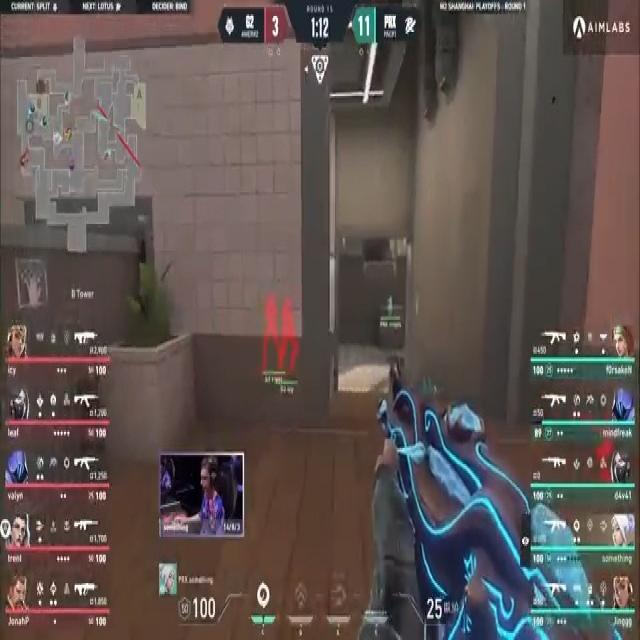enemy: (279, 296, 303, 378)
enemy behind wall: (261, 286, 282, 369)
